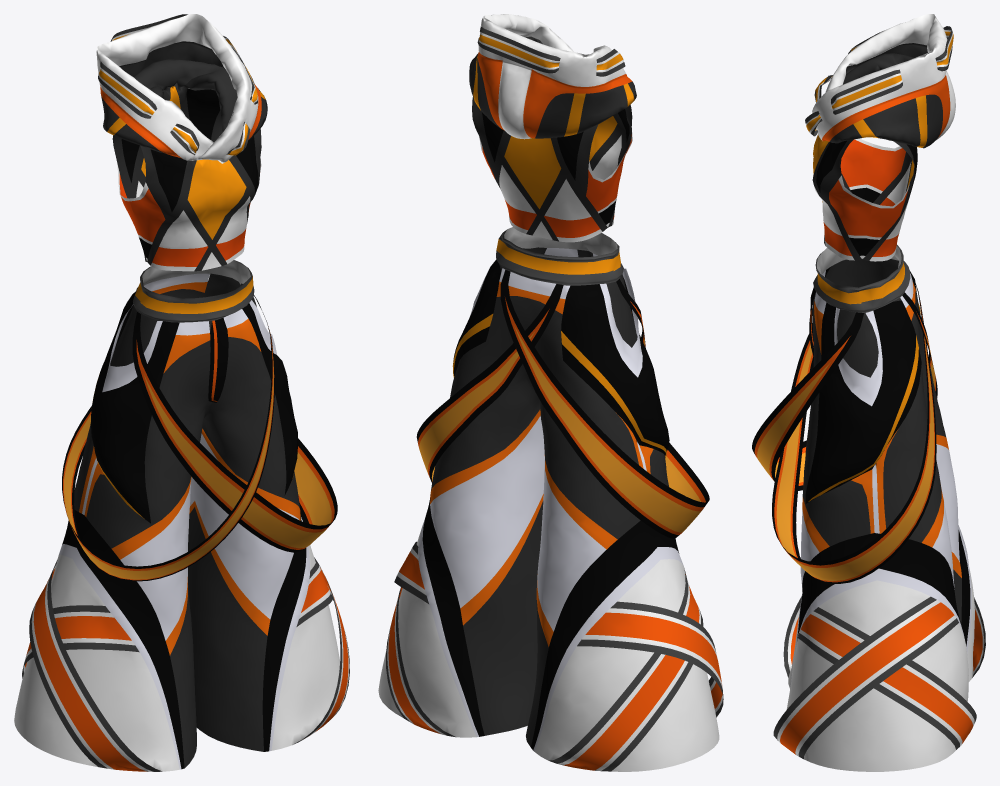
3 views of the same model, side by side, from view 1: azimuth 30°, elevation 25°; view 2: azimuth 150°, elevation 25°; view 3: azimuth 270°, elevation 25° (orthographic). The views are drawn at different scales.
Visible parts, largest first — view 1: Carbon Steel Sunset - Full Outfit_0; view 2: Carbon Steel Sunset - Full Outfit_0; view 3: Carbon Steel Sunset - Full Outfit_0.
Part boxes in pixels (x1,y1,x2,y2): Carbon Steel Sunset - Full Outfit_0: (14,14,349,771); Carbon Steel Sunset - Full Outfit_0: (378,14,723,771); Carbon Steel Sunset - Full Outfit_0: (752,14,985,771).
Size of the model in its own units: 0.7273 by 1.57 by 0.4874.
2 materials, 2 textured.
